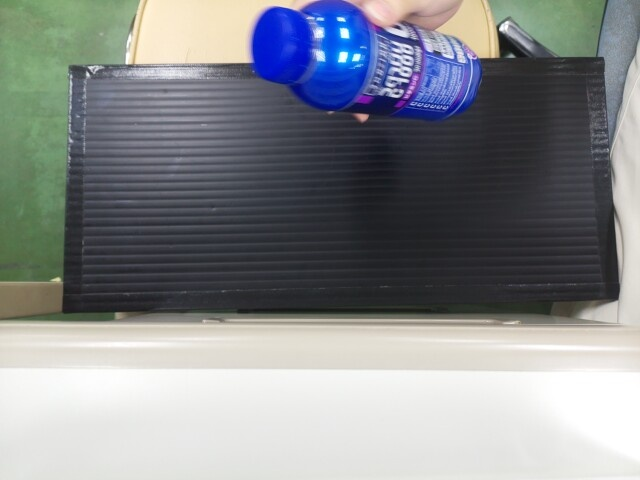plastic_bottle: (248, 1, 478, 117)
